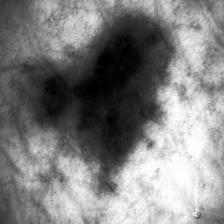Benign Marking or Mole: (33, 15, 164, 156)
